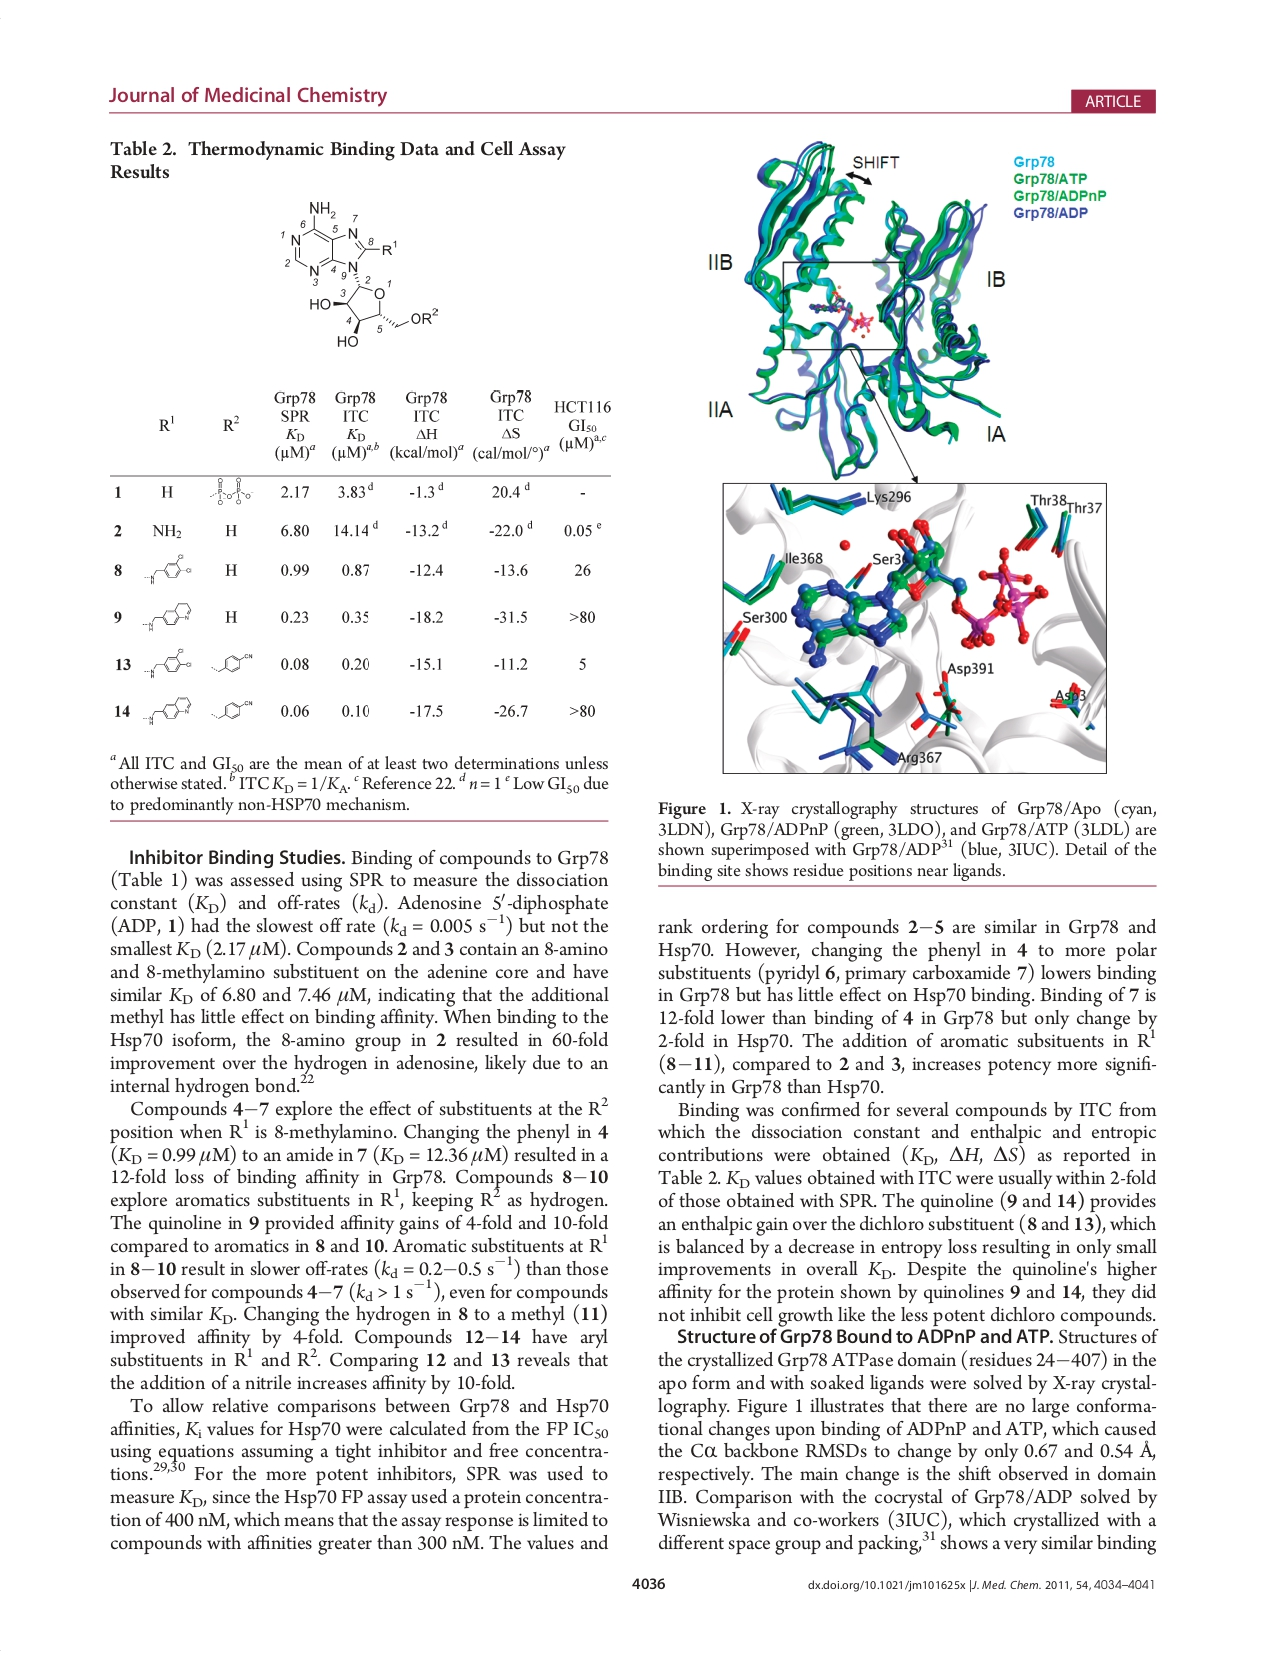exist_molecular: (289, 197, 443, 350), (138, 551, 194, 586), (140, 646, 193, 682), (138, 598, 193, 633), (140, 692, 194, 725), (206, 476, 251, 505), (209, 648, 255, 676), (207, 698, 254, 721)
